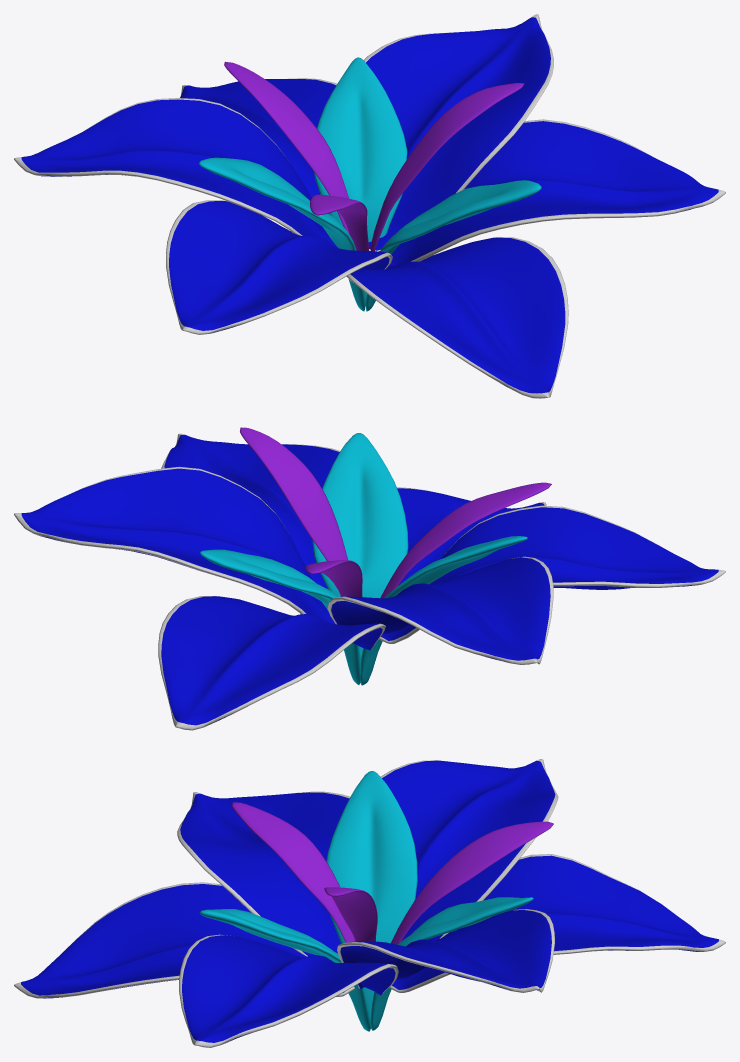
The model's file is strangeFlower.obj.
3 views of the same model, one above another, from view 1: azimuth 30°, elevation 25°; view 2: azimuth 150°, elevation 25°; view 3: azimuth 270°, elevation 25° (orthographic). The views are drawn at different scales.
Parts seen in each view (by area): view 1: Plane.005, Plane.003, Plane.004, Plane.006, Plane.007, Plane.001, Plane, Plane.002, Plane.010, Plane.008, Plane.009, Plane.011; view 2: Plane.003, Plane, Plane.007, Plane.006, Plane.008, Plane.004, Plane.010, Plane.011, Plane.005, Plane.001, Plane.009, Plane.002; view 3: Plane.007, Plane.004, Plane.005, Plane.006, Plane, Plane.003, Plane.009, Plane.002, Plane.011, Plane.008, Plane.001, Plane.010.
Part boxes in pixels (x1,y1,x2,y2): Plane.005: (346,237,568,398); Plane.003: (364,14,553,251); Plane.004: (379,119,725,264); Plane.006: (166,200,392,334); Plane.007: (14,98,337,247); Plane.001: (314,57,407,306); Plane: (180,78,336,197); Plane.002: (224,61,349,233); Plane.010: (370,83,524,251); Plane.008: (365,180,541,311); Plane.009: (199,157,365,311); Plane.011: (310,194,368,250); Plane.003: (14,466,335,624); Plane: (158,596,385,730); Plane.007: (327,556,553,664); Plane.006: (379,505,725,643); Plane.008: (312,433,408,661); Plane.004: (161,433,340,588); Plane.010: (240,427,347,561); Plane.011: (380,482,551,598); Plane.005: (397,487,546,585); Plane.001: (200,549,360,684); Plane.009: (360,536,527,685); Plane.002: (305,560,362,597); Plane.007: (380,759,558,940); Plane.004: (179,934,398,1047); Plane.005: (14,882,354,998); Plane.006: (177,791,350,956); Plane: (389,854,725,992); Plane.003: (337,909,554,992); Plane.009: (326,771,417,1028); Plane.002: (391,821,553,944); Plane.011: (232,802,355,942); Plane.008: (199,909,370,1031); Plane.001: (370,897,533,1030); Plane.010: (324,887,377,941).
Bounding box in the file's own units: 6.01 × 2.19 × 7.
